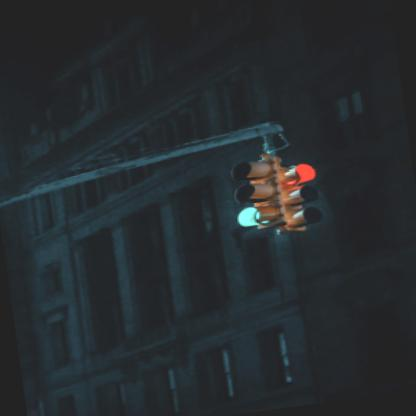trafficlight: (270, 152, 326, 233), (227, 152, 282, 230)
